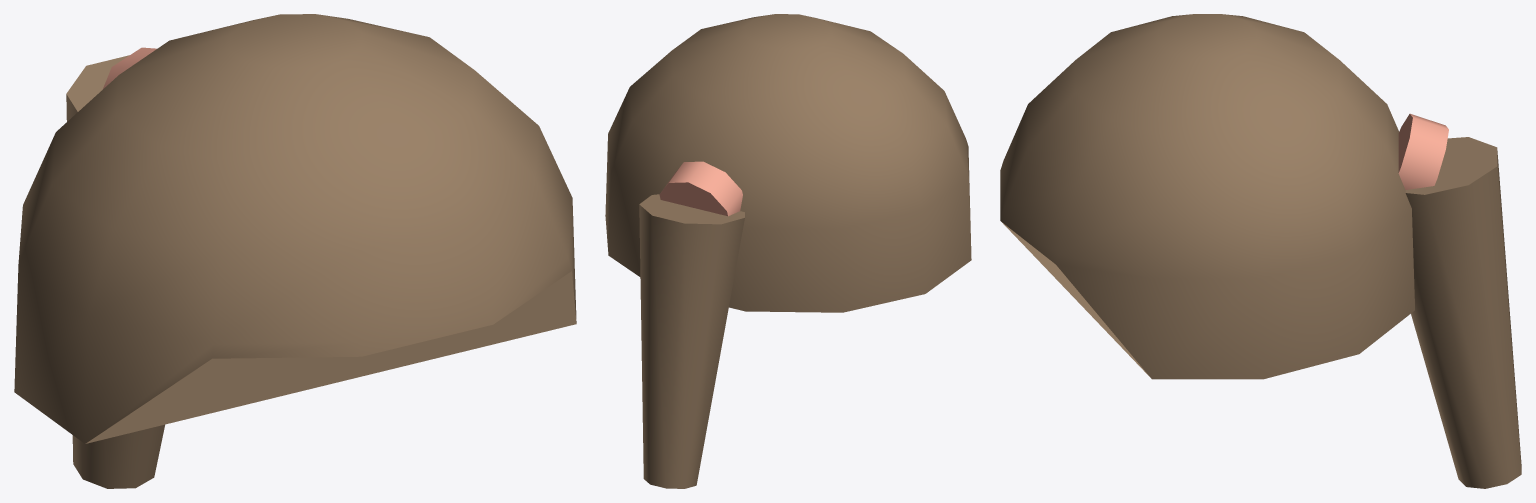
Rendered from CharHairPonytail.fbx.
The picture shows the model from 3 angles, left to right: view 1: azimuth 30°, elevation 25°; view 2: azimuth 150°, elevation 25°; view 3: azimuth 270°, elevation 25°; orthographic projection. The views are drawn at different scales.
Visible parts, largest first — view 1: CharHairPonytail; view 2: CharHairPonytail; view 3: CharHairPonytail.
Boxes of the visible parts, left/top/right/bottom form: CharHairPonytail: left=14, top=14, right=576, bottom=488; CharHairPonytail: left=605, top=14, right=971, bottom=488; CharHairPonytail: left=1000, top=14, right=1521, bottom=488.
Bounding box in the file's own units: 0.4057 × 0.4448 × 0.4745.
